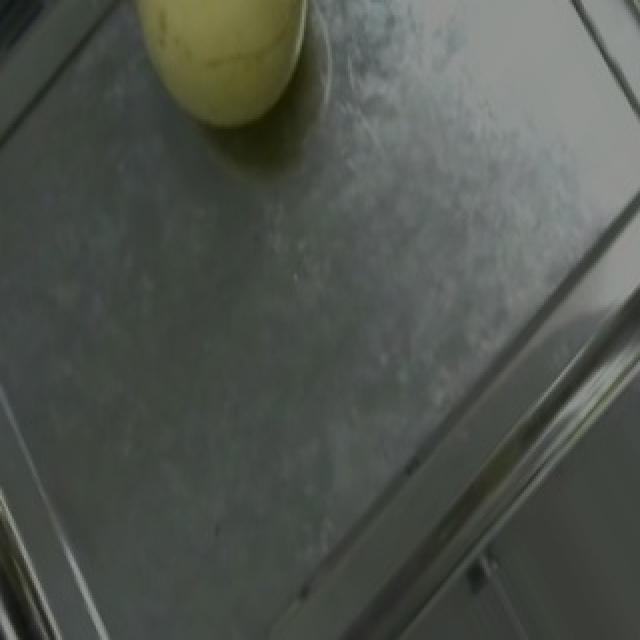Fruit: (96, 0, 342, 161)
